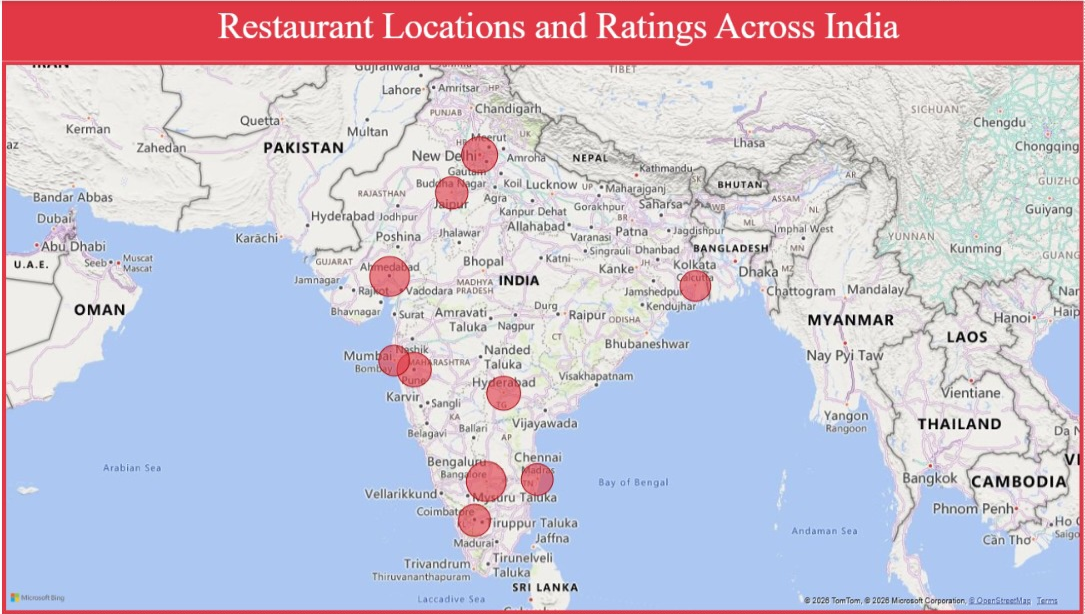

The dashboard page shown, as its layout file describes it:
{"tool":"powerbi","page":{"name":"\t\t\t\t\t\t\t\t\t\t\t\t\t\t\t\t\tRestaurant Locations and Ratings Across India\t\t\t\t\t\t\t\t\t\t\t\t\t\t\t\t\t\t\t\t\t\t\t\t\t\t\t\t\t\t\t\t\t\t\t\t\t\t\t\t\t\t\t\t\t\t\t\t\t\t\t\t\t\t\t\t\t\t","canvas":[1280,720],"ordinal":4},"visuals":[{"type":"map","title":"Restaurant Locations & Ratings","fields":{"Category":["zomato_analytics restaurants.city"],"Size":["zomato_analytics restaurants.Total Reviews"]},"box":[10.1,70.7,1269.6,649.2],"z":0},{"type":"textbox","box":[10.1,0,1269.6,70.7],"z":1000}]}

Visuals, with their boxes in screenshot pixels (x1, y1, x2, y2), scaled from the page's 1280x720 canvas onto the 1085x614 screenshot:
"Restaurant Locations & Ratings" map: 9,60,1084,613
textbox: 9,0,1084,60
